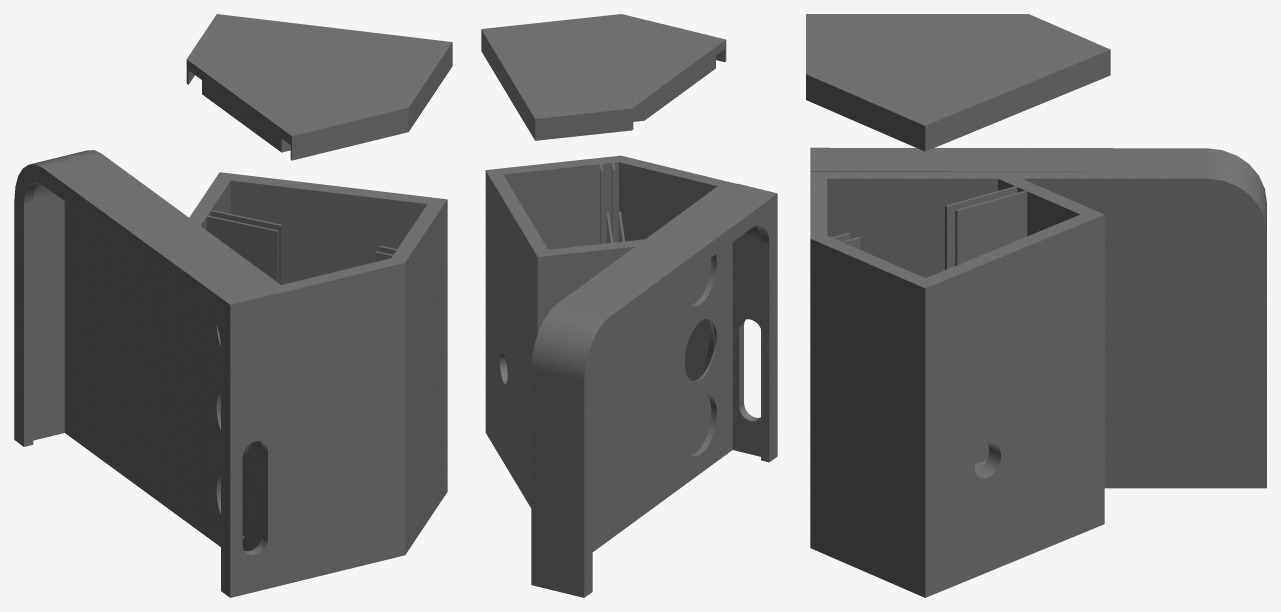
The model's file is Spectrometer.glb.
The picture shows the model from 3 angles, left to right: view 1: azimuth 30°, elevation 25°; view 2: azimuth 150°, elevation 25°; view 3: azimuth 270°, elevation 25°; orthographic projection. The views are drawn at different scales.
Parts seen in each view (by area): view 1: Body, Lid; view 2: Body, Lid; view 3: Body, Lid.
Boxes of the visible parts, left/top/right/bottom form: Body: left=14, top=150, right=447, bottom=597; Lid: left=186, top=14, right=452, bottom=160; Body: left=485, top=155, right=777, bottom=597; Lid: left=481, top=14, right=726, bottom=140; Body: left=810, top=147, right=1266, bottom=597; Lid: left=806, top=14, right=1110, bottom=151.
Bounding box in the file's own units: 5.93 × 9.2 × 8.1.
1 material, 1 textured.
